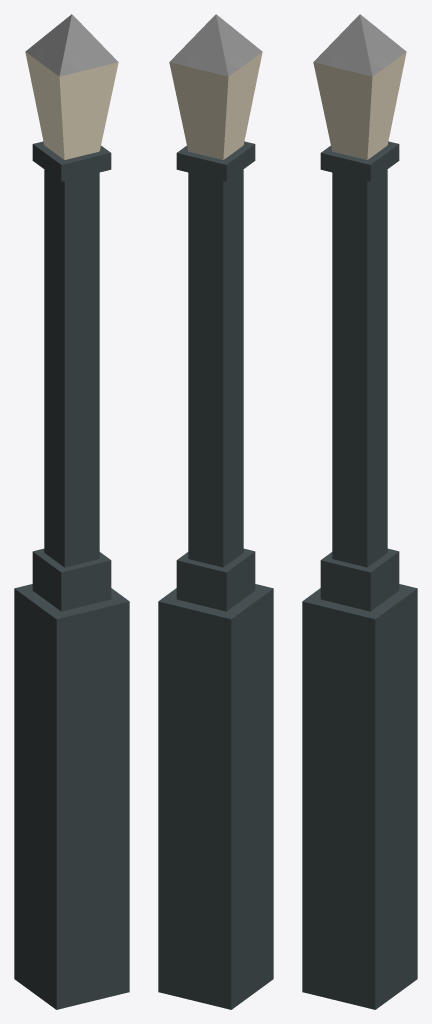
File: park_lamp.fbx
The picture shows the model from 3 angles, left to right: view 1: azimuth 30°, elevation 25°; view 2: azimuth 150°, elevation 25°; view 3: azimuth 330°, elevation 25°; orthographic projection.
Parts seen in each view (by area): view 1: Cube; view 2: Cube; view 3: Cube.
Boxes of the visible parts, left/top/right/bottom form: Cube: left=14, top=14, right=129, bottom=1009; Cube: left=158, top=14, right=273, bottom=1009; Cube: left=302, top=14, right=417, bottom=1009.
Bounding box in the file's own units: 30 × 380 × 30.
